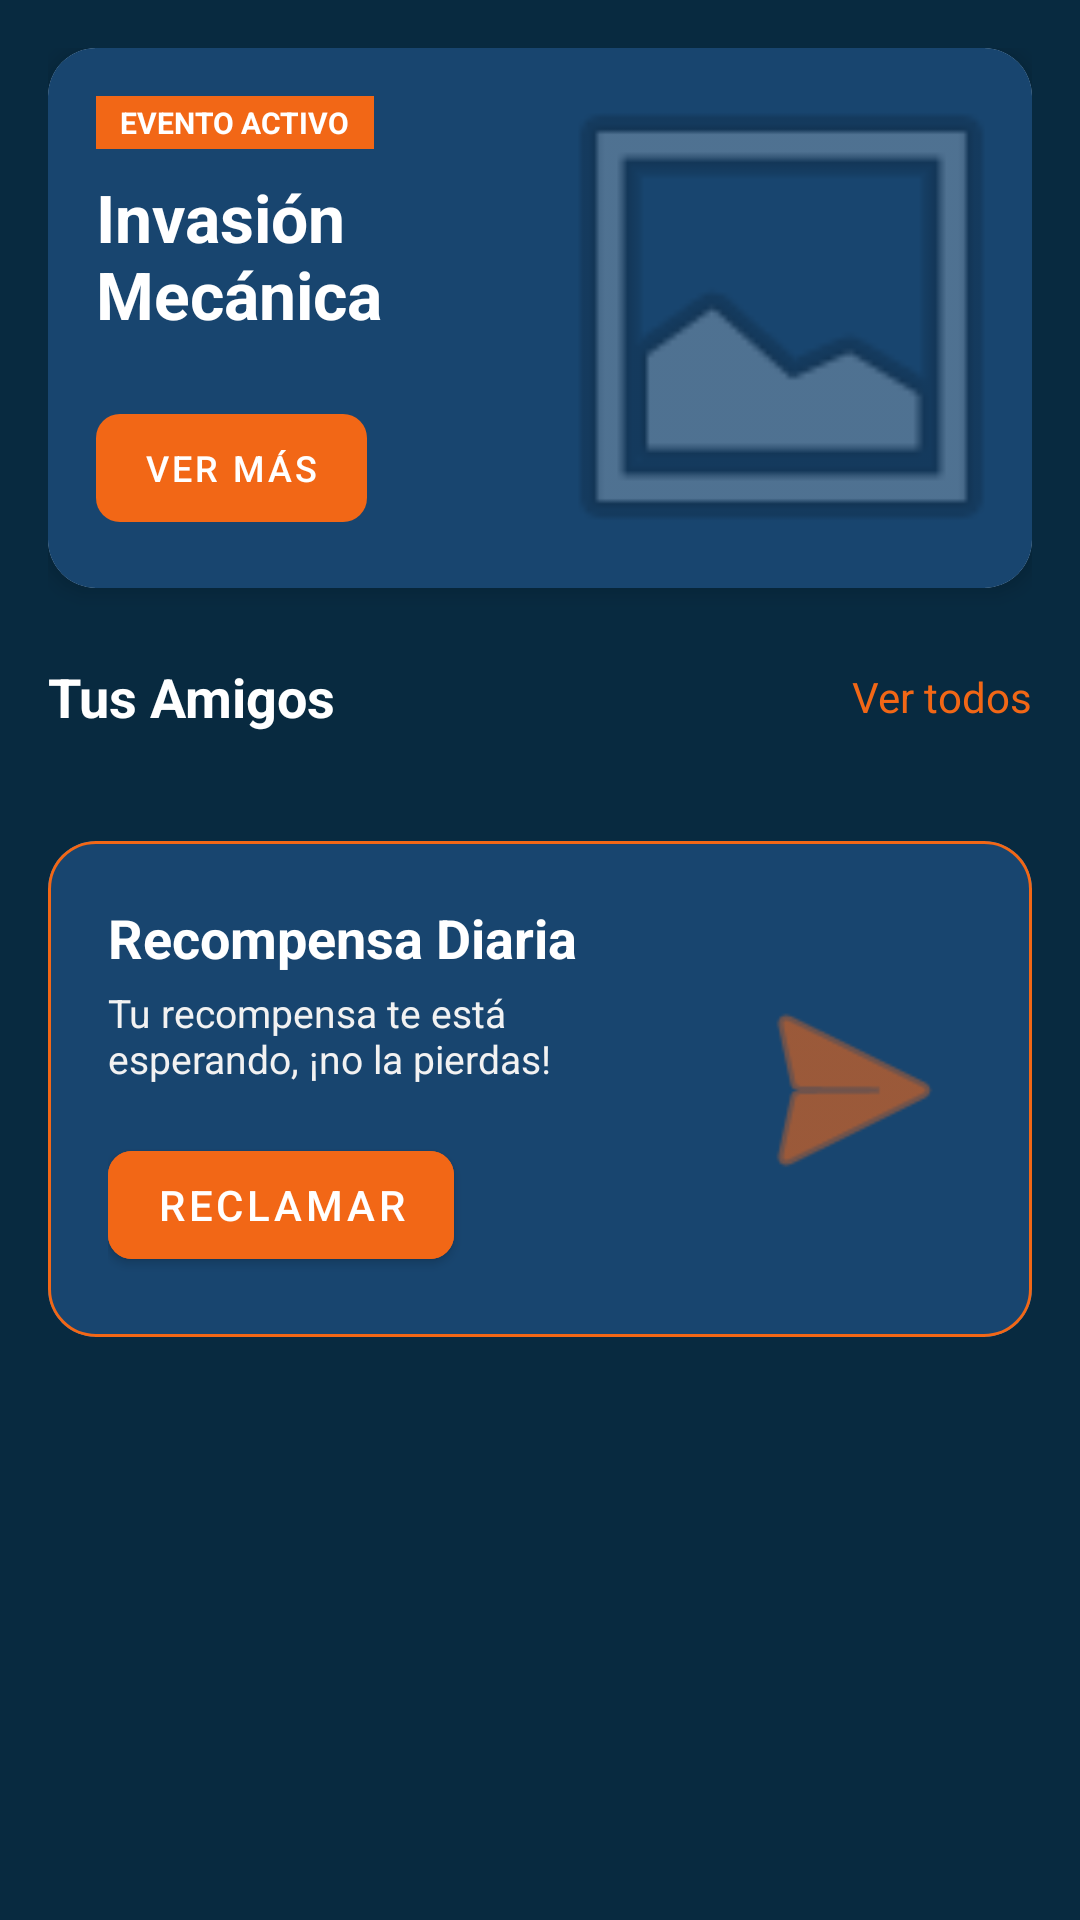

Screen size 1080 × 1920. Icon name, then its center in pixels as (x,y):
send: (854,1090)
